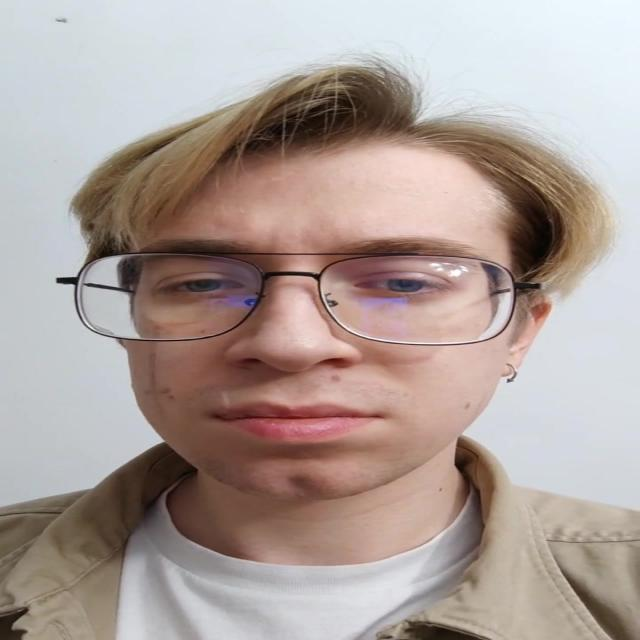earlobe: (498, 295, 555, 377)
